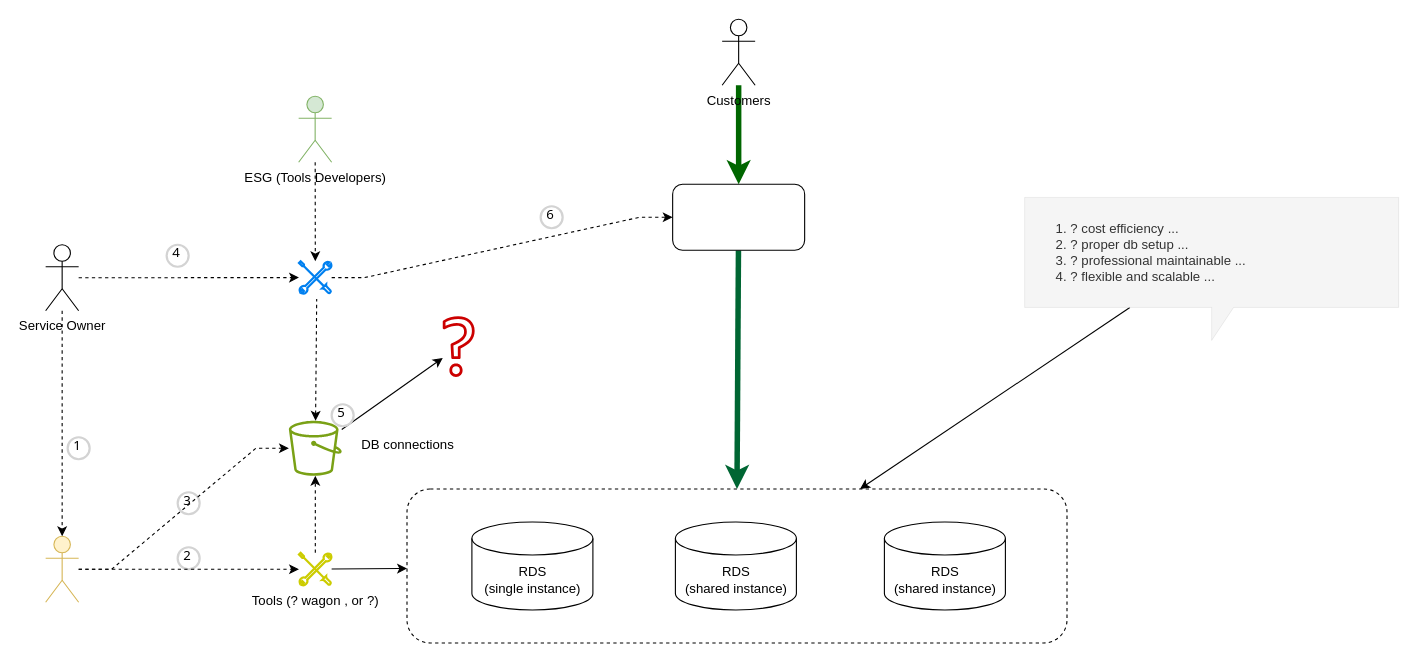
Image size: 1418x662. Some labels were removed from this diagram. The box of each missing label's shape, as (x1, y1, x2, y2) in pixels:
App: (672, 183, 805, 250)
DBE: (45, 535, 79, 602)
Tools (wagon): (297, 260, 332, 294)
what's the interfaces defined here?: (442, 316, 474, 376)
